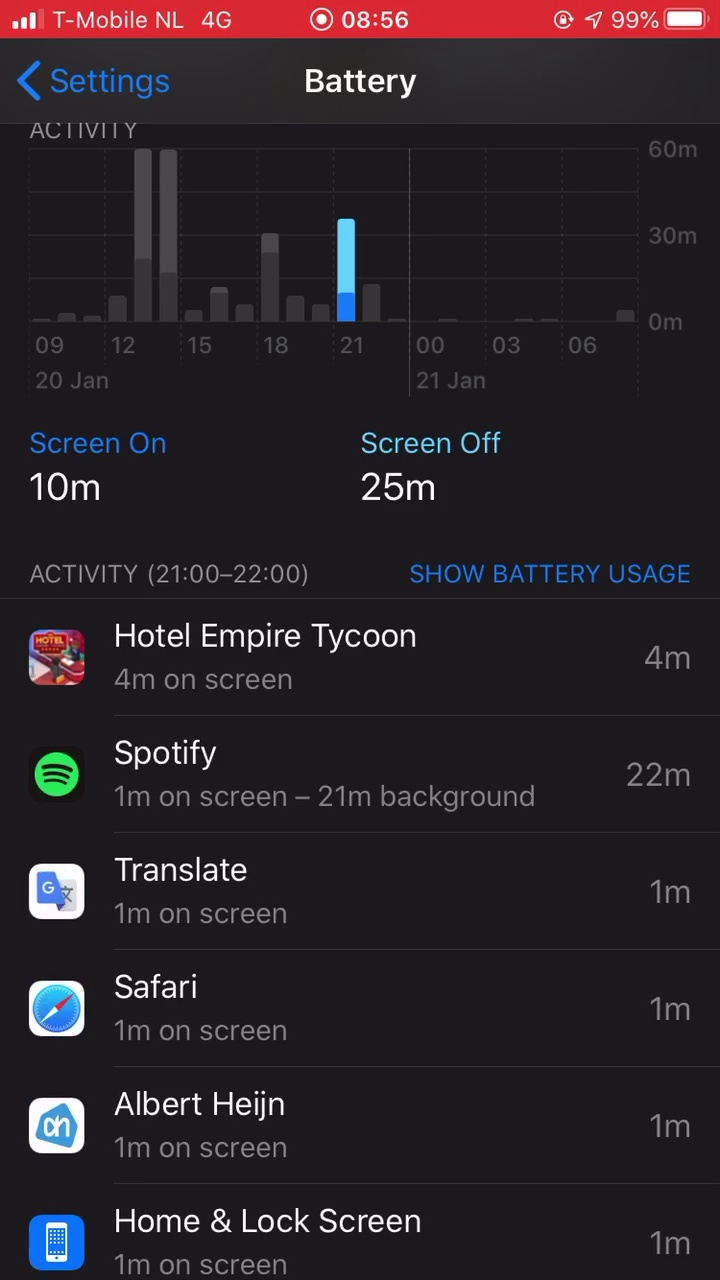activity: (25, 539, 345, 605)
app: (25, 605, 704, 703), (27, 716, 706, 814), (22, 838, 701, 936), (25, 958, 704, 1056), (25, 1072, 704, 1170), (26, 1181, 705, 1279)
